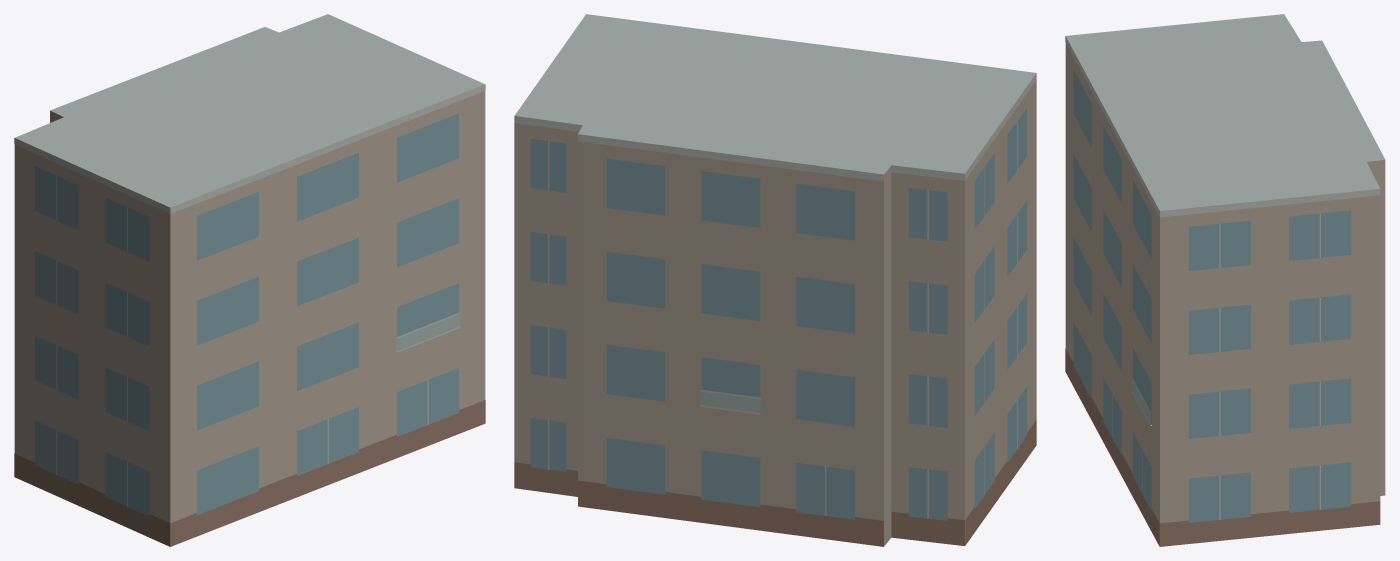
The model's file is survey-upis-32919411.glb.
3 renders of one model, left to right at view 1: azimuth 30°, elevation 25°; view 2: azimuth 150°, elevation 25°; view 3: azimuth 270°, elevation 25°, orthographic. The views are drawn at different scales.
Visible parts, largest first — view 1: survey-upis-32919411.tmp; view 2: survey-upis-32919411.tmp; view 3: survey-upis-32919411.tmp.
Part boxes in pixels (bbox=[...]): survey-upis-32919411.tmp: bbox=[14, 14, 485, 546]; survey-upis-32919411.tmp: bbox=[514, 14, 1036, 546]; survey-upis-32919411.tmp: bbox=[1065, 14, 1385, 546].
Size of the model in its own units: 16.12 by 12.8 by 11.06.
